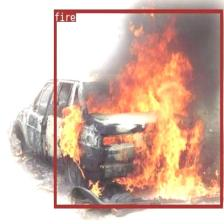fire: (53, 9, 222, 207)
